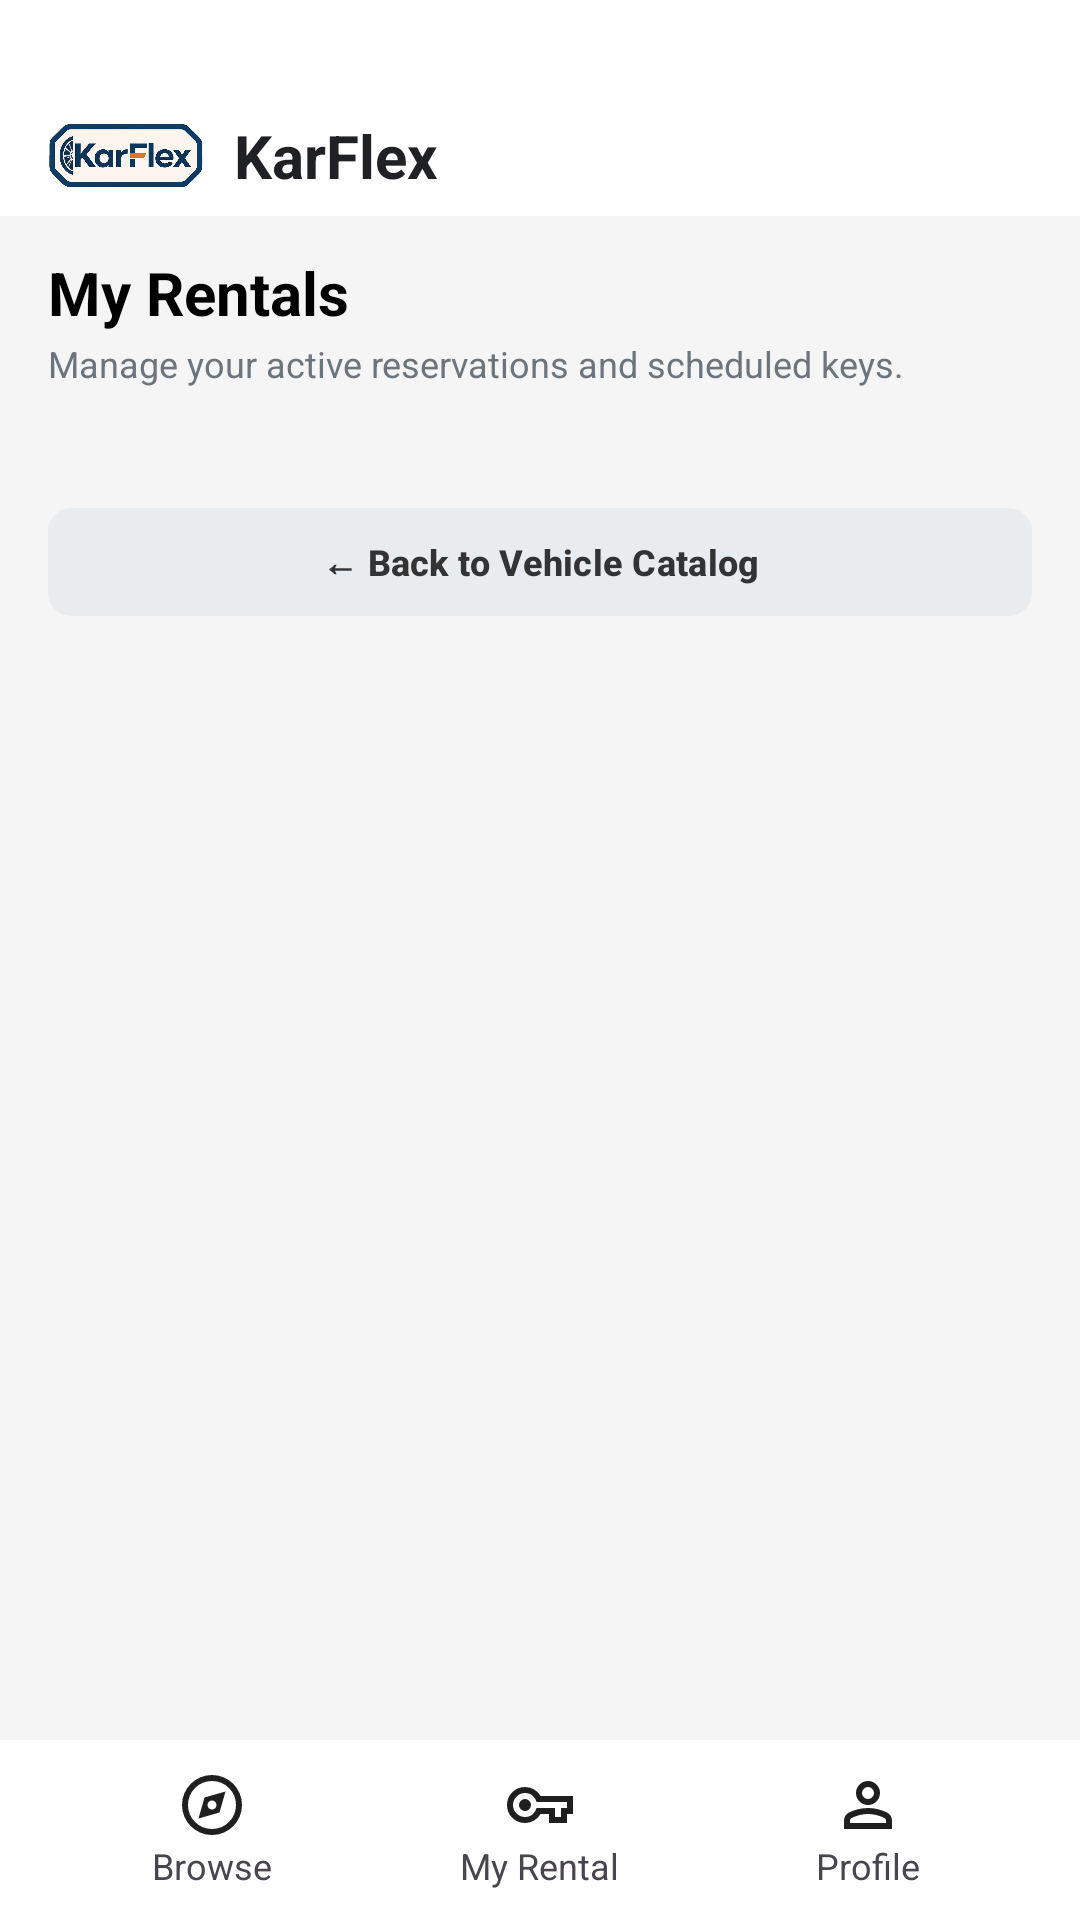

Locate icon controls on the screen. Image size 1080*1920, boxes as (x1, y1, x2, y2).
explore: (182, 1775, 242, 1835)
key: (507, 1787, 573, 1823)
person: (844, 1781, 892, 1829)
